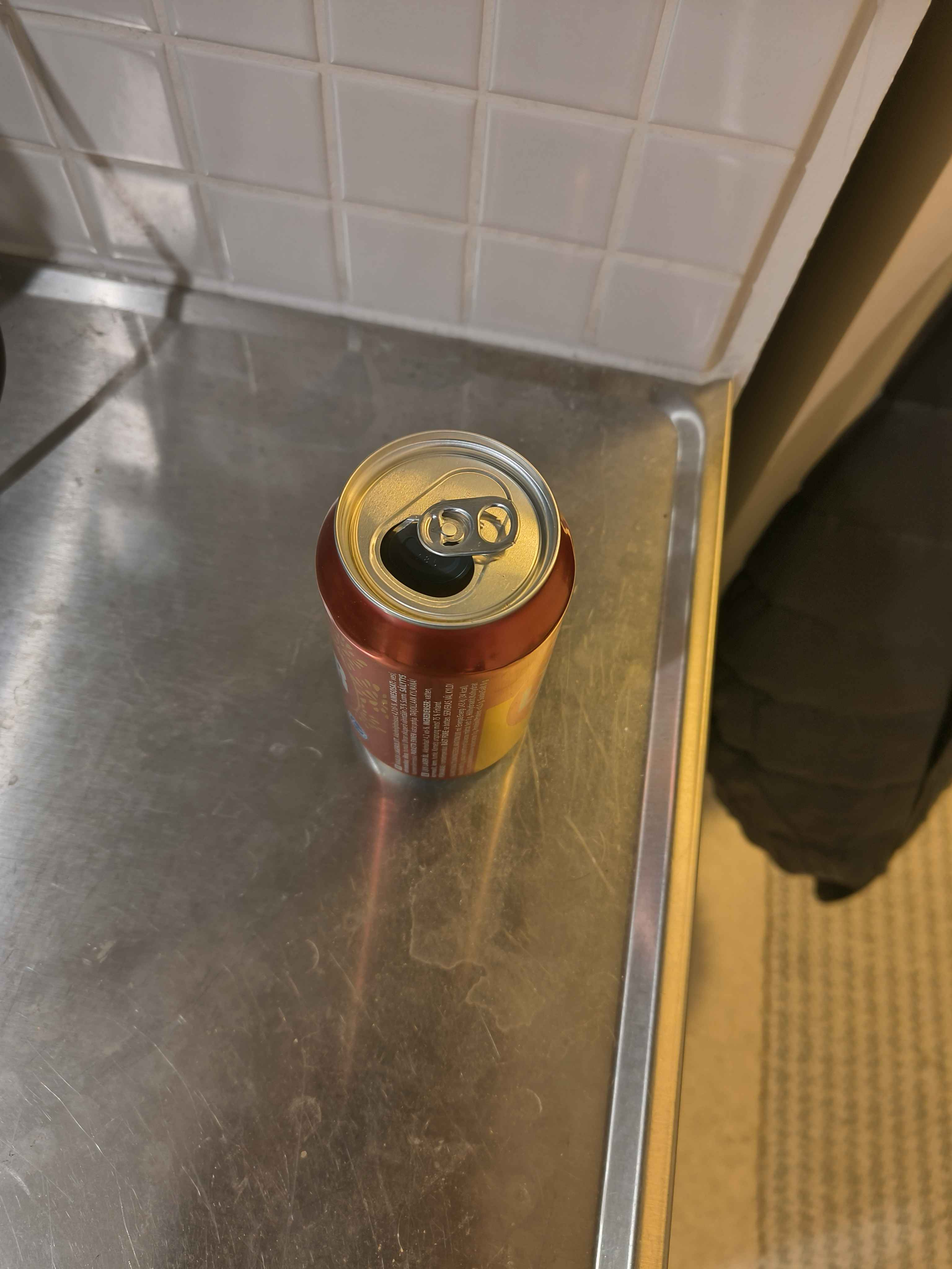Pantburk: (315, 430, 575, 778)
